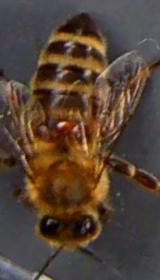varroa_mite: (47, 117, 83, 148)
